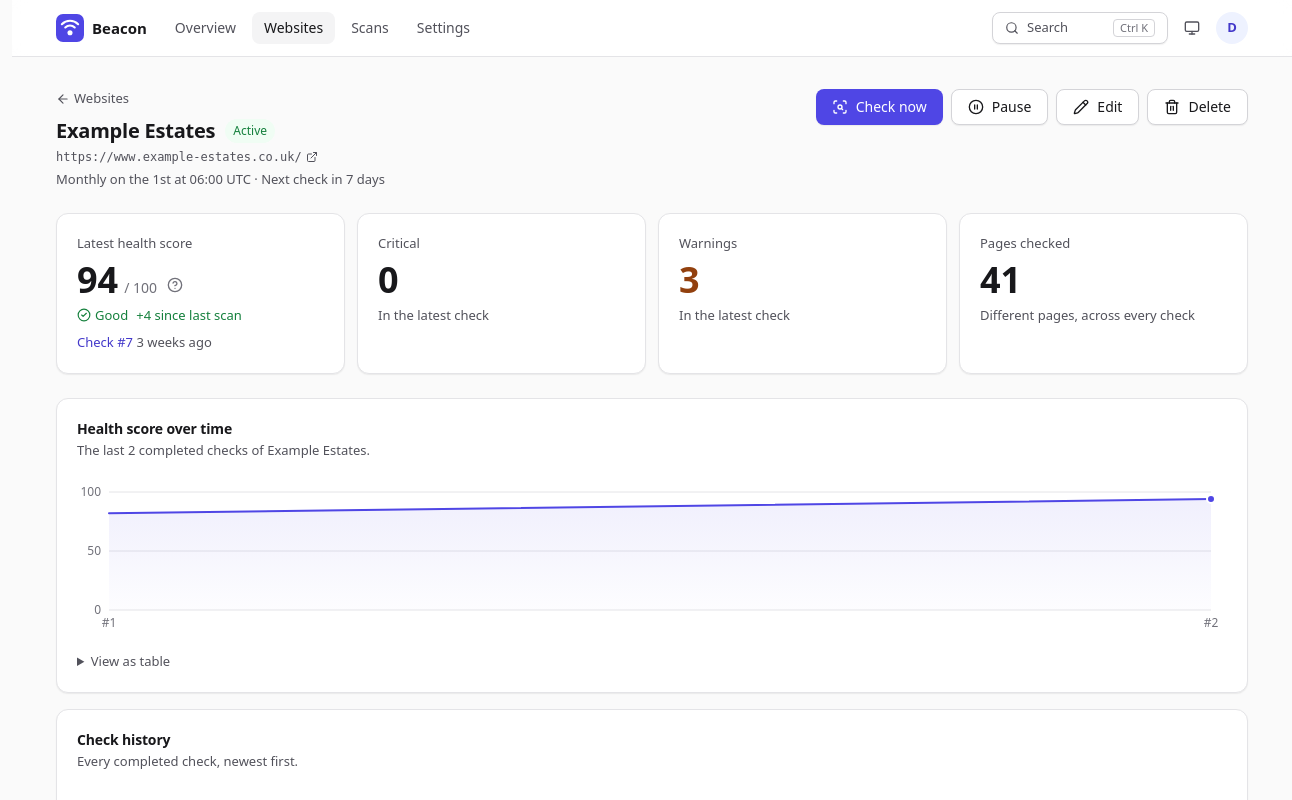
Test: website detail › starts a check and follows it
This screenshot has width=1292, height=800.
Click the button "Check now".
click(879, 107)  # box [816,89,943,125]
(page scrolled)
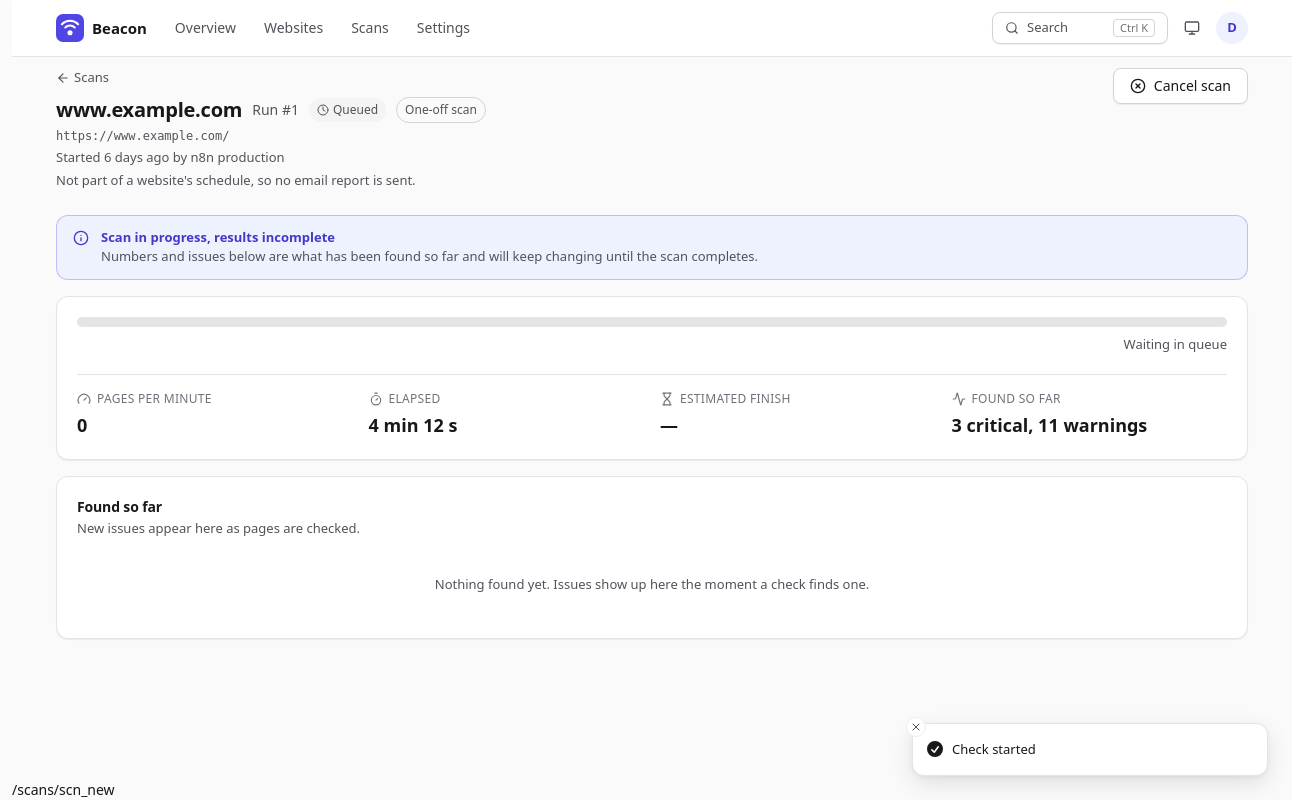
Now the text with test id "location" reads "/scans/scn_new", box [12,780,115,799]
